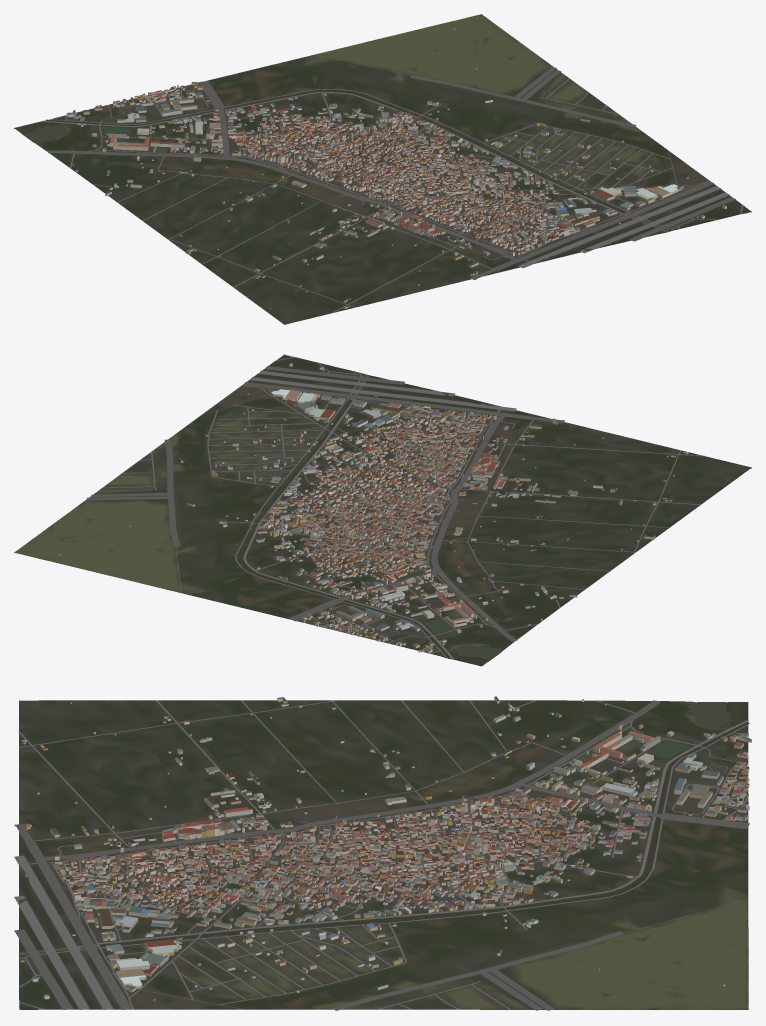
3 views of the same model, one above another, from view 1: azimuth 30°, elevation 25°; view 2: azimuth 150°, elevation 25°; view 3: azimuth 270°, elevation 25° (orthographic). The views are drawn at different scales.
Visible parts, largest first — view 1: ground, buildings, roads, water; view 2: ground, buildings, roads, water; view 3: ground, buildings, roads, water.
Boxes of the visible parts, left/top/right/bottom form: ground: left=14, top=14, right=751, bottom=324; buildings: left=66, top=28, right=726, bottom=309; roads: left=42, top=54, right=743, bottom=313; water: left=23, top=91, right=747, bottom=232; ground: left=14, top=354, right=751, bottom=666; buildings: left=58, top=363, right=728, bottom=653; roads: left=87, top=357, right=704, bottom=659; water: left=240, top=355, right=499, bottom=660; ground: left=19, top=700, right=748, bottom=1009; buildings: left=20, top=696, right=751, bottom=1000; roads: left=14, top=700, right=749, bottom=1010; water: left=19, top=702, right=749, bottom=1009.
Bounding box in the file's own units: 1413 × 29.51 × 1418.
